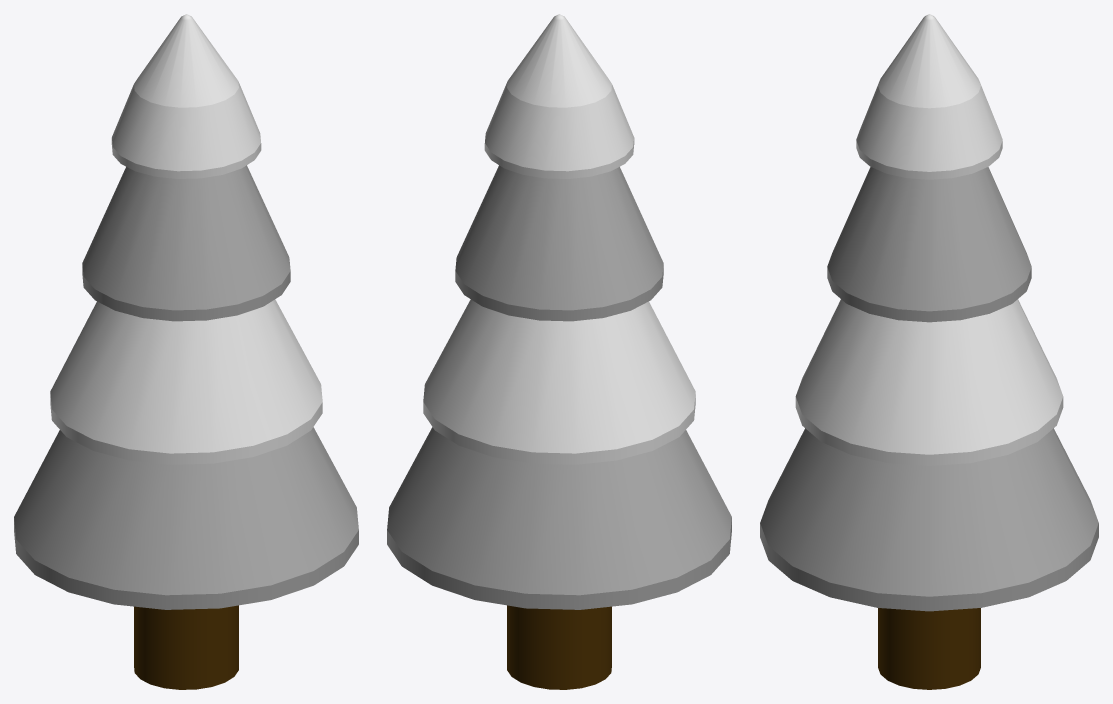
The model's file is Arbol_3.fbx.
3 renders of one model, left to right at view 1: azimuth 30°, elevation 25°; view 2: azimuth 150°, elevation 25°; view 3: azimuth 270°, elevation 25°, orthographic.
Visible parts, largest first — view 1: pCylinder3; view 2: pCylinder3; view 3: pCylinder3.
Part boxes in pixels (box(x1,y1,x2,y2)): pCylinder3: box(14, 14, 358, 689); pCylinder3: box(387, 14, 731, 689); pCylinder3: box(760, 14, 1098, 689).
Bounding box in the file's own units: 79.36 × 164 × 76.86.
